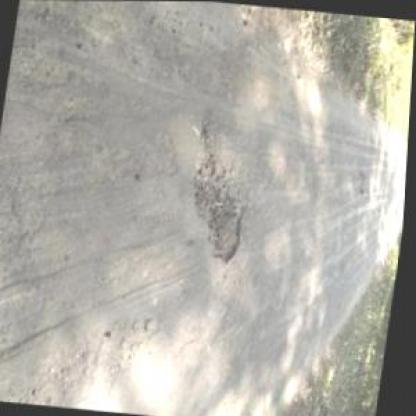pothole: (183, 154, 255, 268), (358, 173, 370, 197)
